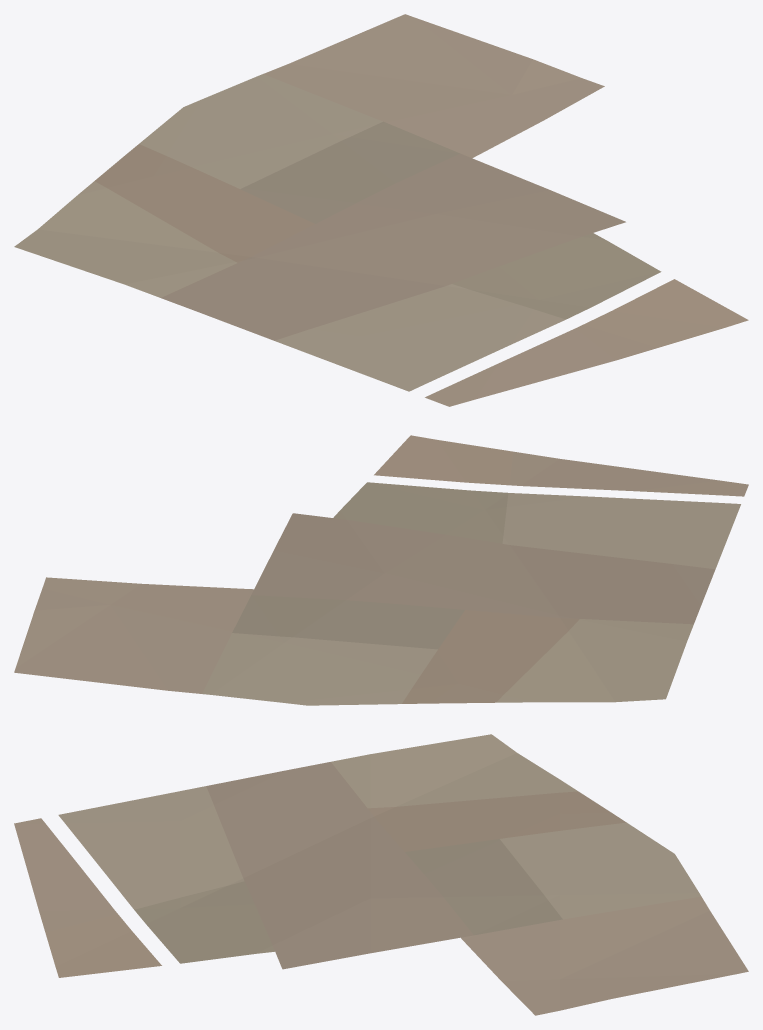
Rendered from farm_3_2_soil.glb.
The picture shows the model from 3 angles, top to bottom: view 1: azimuth 30°, elevation 25°; view 2: azimuth 150°, elevation 25°; view 3: azimuth 270°, elevation 25°; orthographic projection. The views are drawn at different scales.
Parts seen in each view (by area): view 1: geometry_0; view 2: geometry_0; view 3: geometry_0.
Part boxes in pixels (x1=…): geometry_0: x1=14, y1=14, x2=748, y2=406; geometry_0: x1=14, y1=435, x2=748, y2=705; geometry_0: x1=14, y1=734, x2=748, y2=1015.
Bounding box in the file's own units: 274 × 9.93 × 310.
